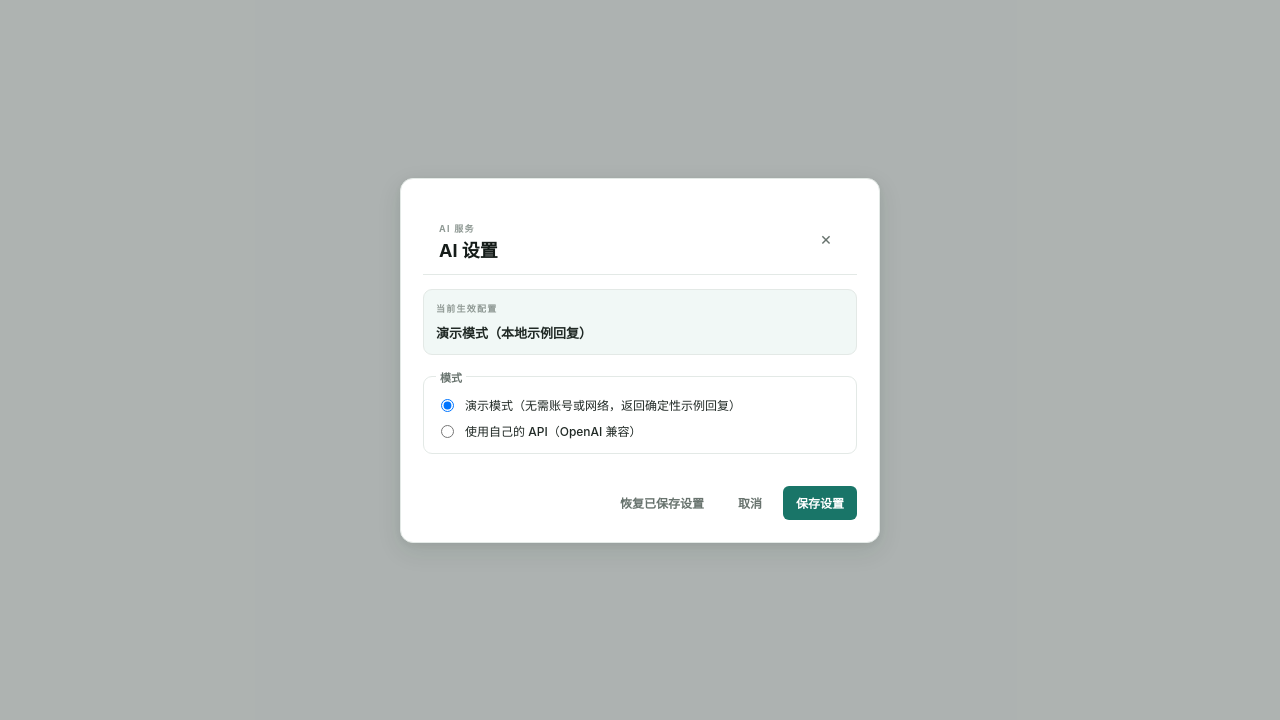
Test case: AiSettingsDialog › tests the current unsaved values and reports success
Expected: the radio button labelled "演示模式（无需账号或网络，返回确定性示例回复）" is shown, top-left (441, 398), bottom-right (454, 412)
Click the radio button labelled "使用自己的 API（OpenAI 兼容）": point(448, 431) top-left (441, 424), bottom-right (454, 438)
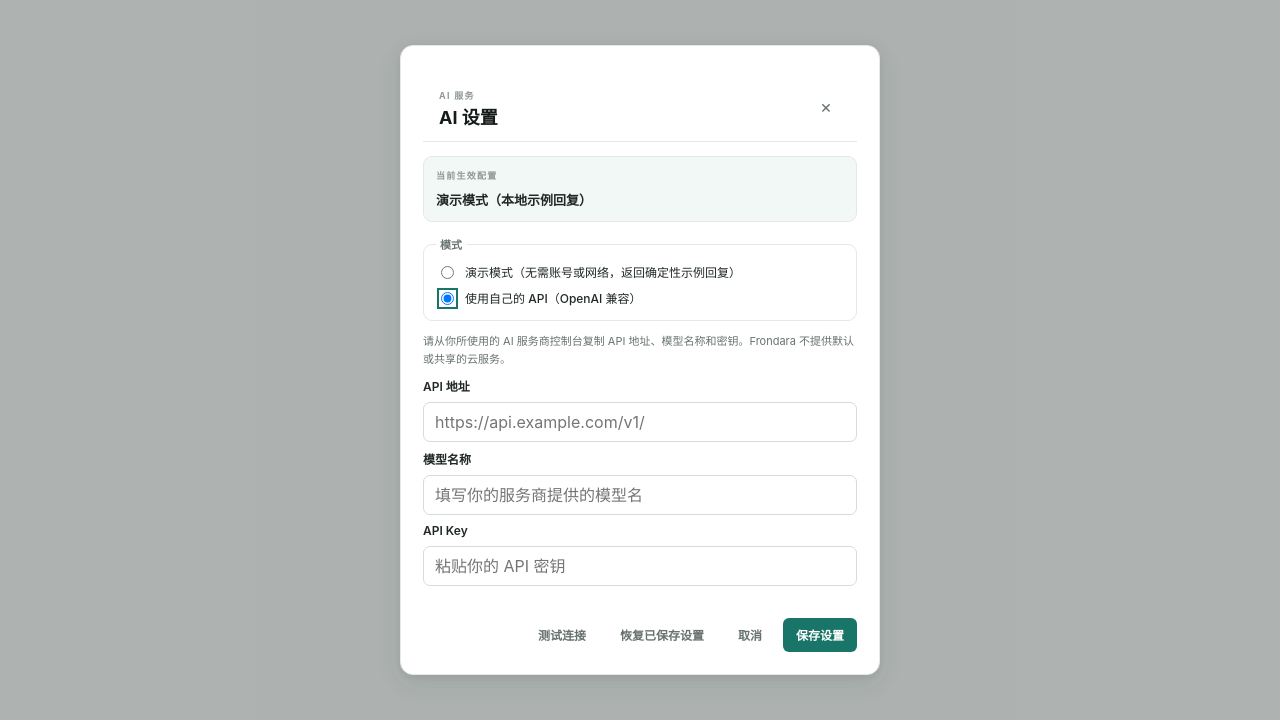
In the field labelled "API 地址": point(640, 422) top-left (423, 402), bottom-right (857, 442), type "https://api.example.com/v1"
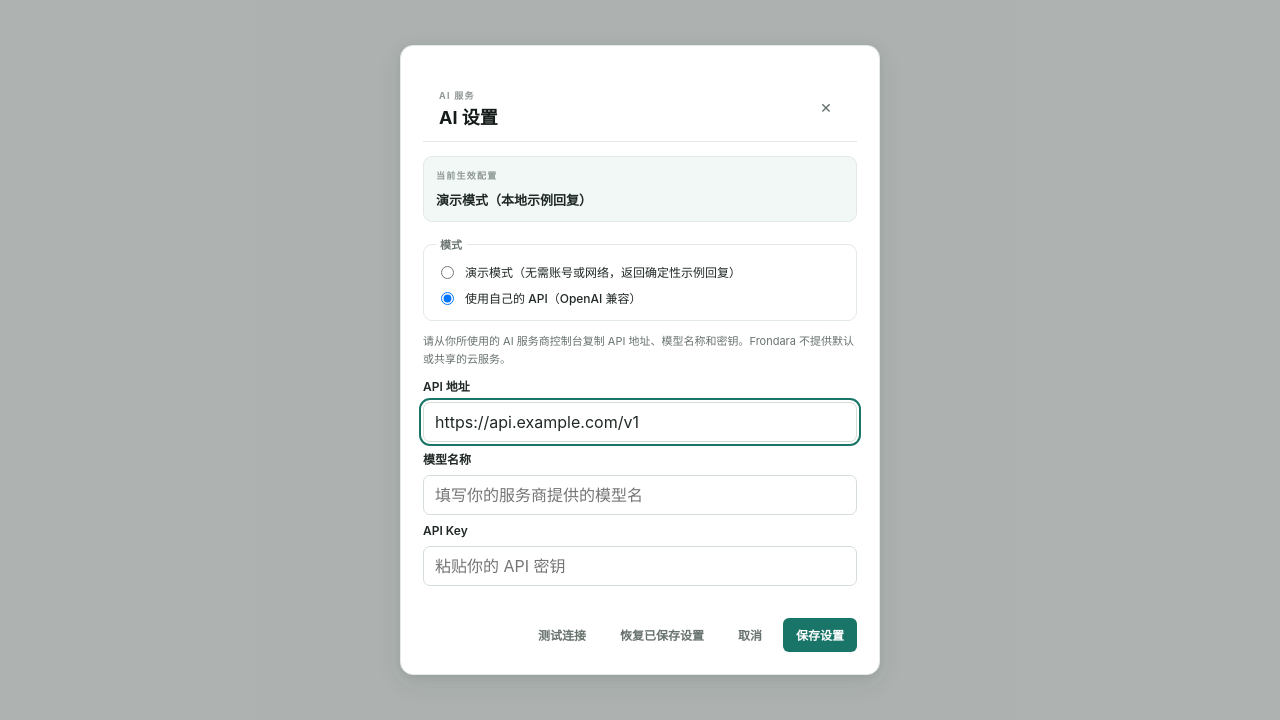
In the field labelled "模型名称": point(640, 495) top-left (423, 475), bottom-right (857, 515), type "demo-model"
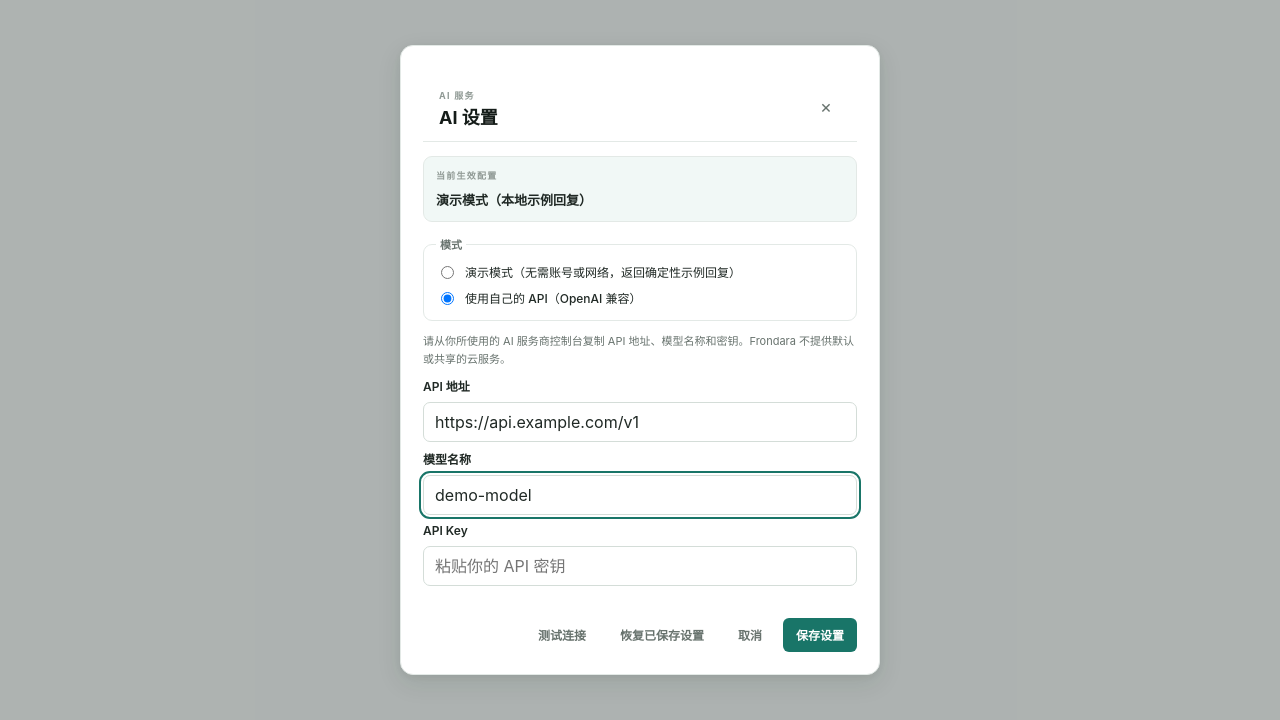
In the password field labelled "API Key": point(640, 566) top-left (423, 546), bottom-right (857, 586), type "k-secret"
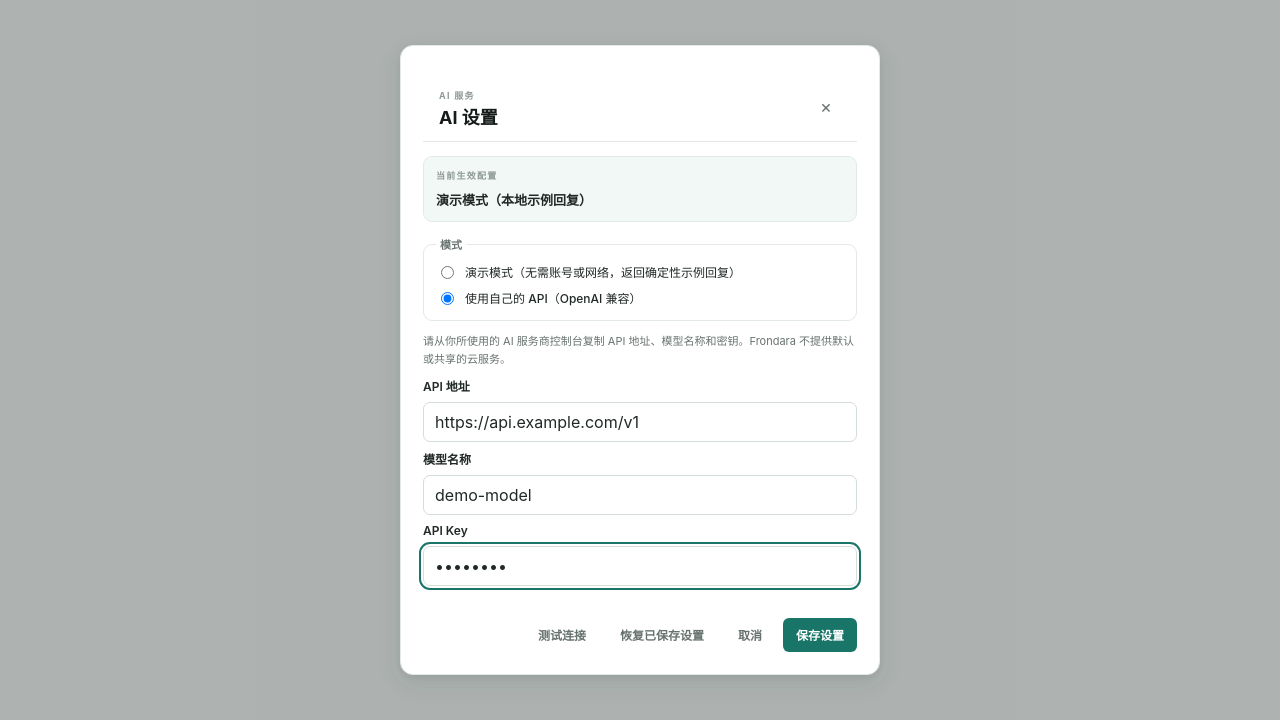
Click the button "测试连接": point(562, 635) top-left (525, 618), bottom-right (599, 652)
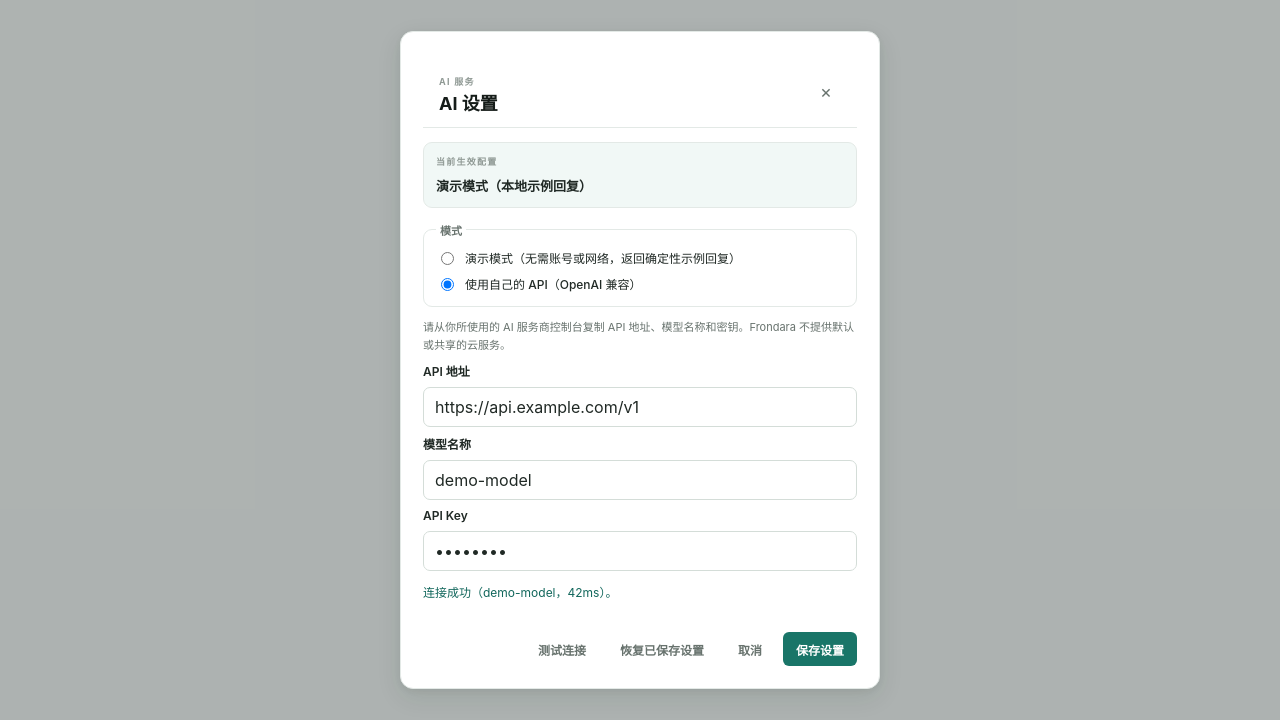
Now the text "连接成功（demo-model，42ms）。" is shown, box top-left (423, 585), bottom-right (618, 600)
